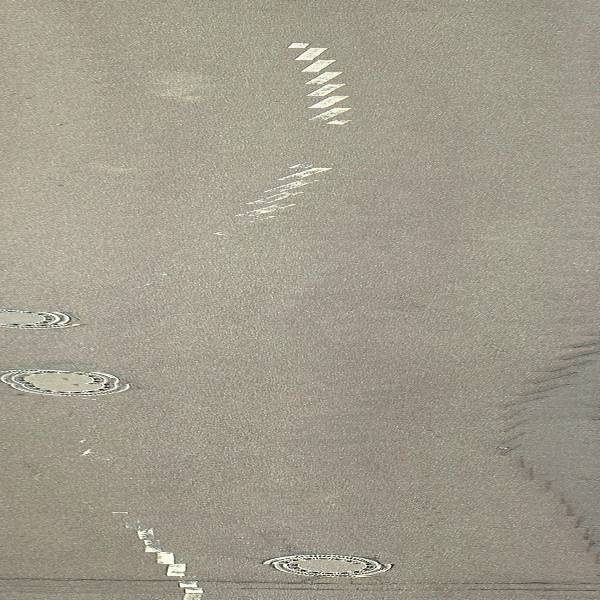road_damage: (1, 575, 458, 600)
